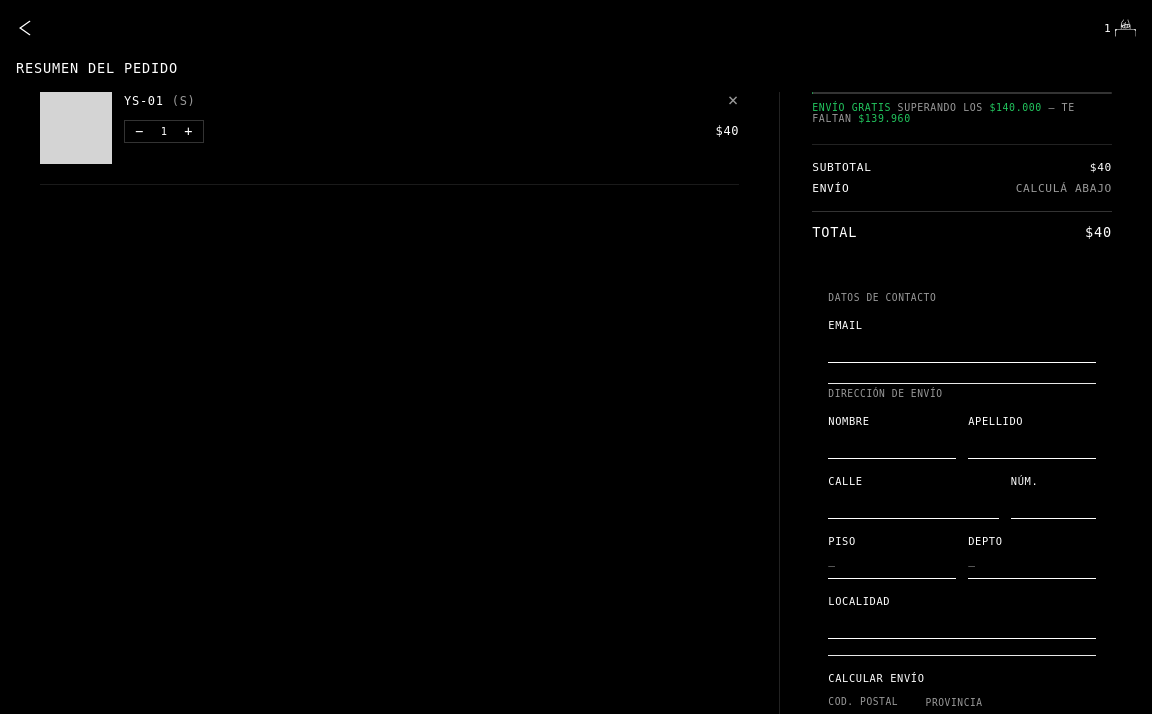
Test: Cart › al tocar - con quantity=1 elimina el item
The image size is (1152, 714).
Step 1. Click the button with test id "qty-decrease" → [140, 131], box [135,125,144,138]
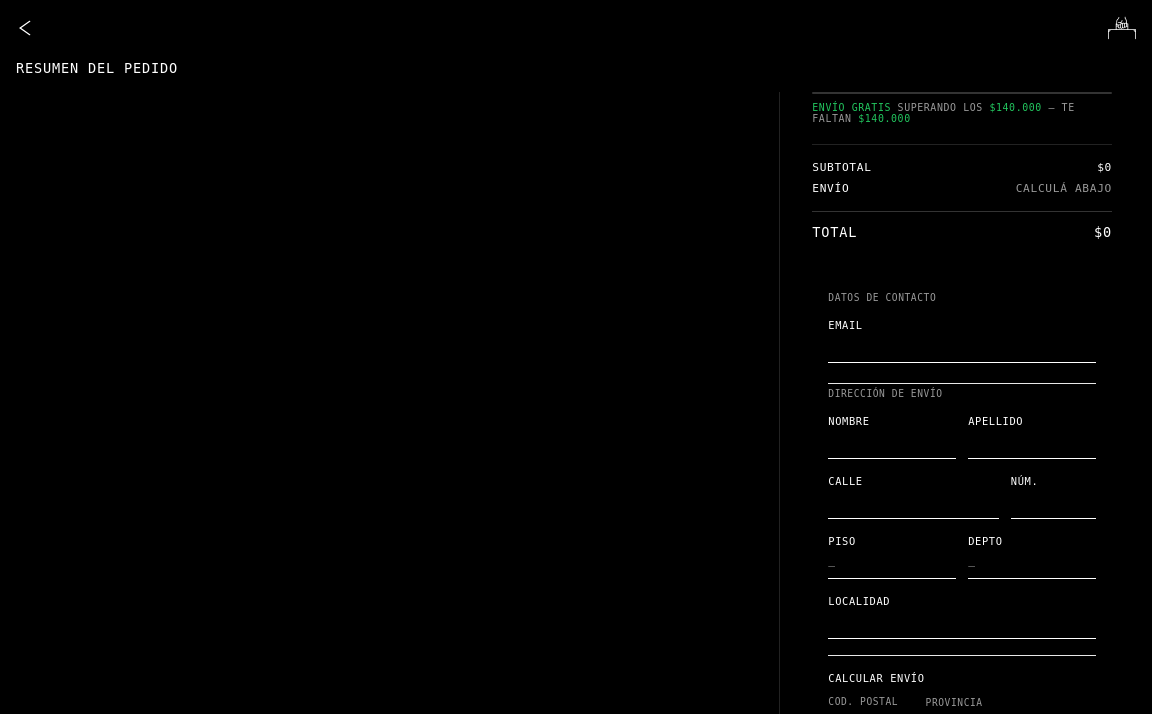
Now the element with test id "cart-item" is gone
